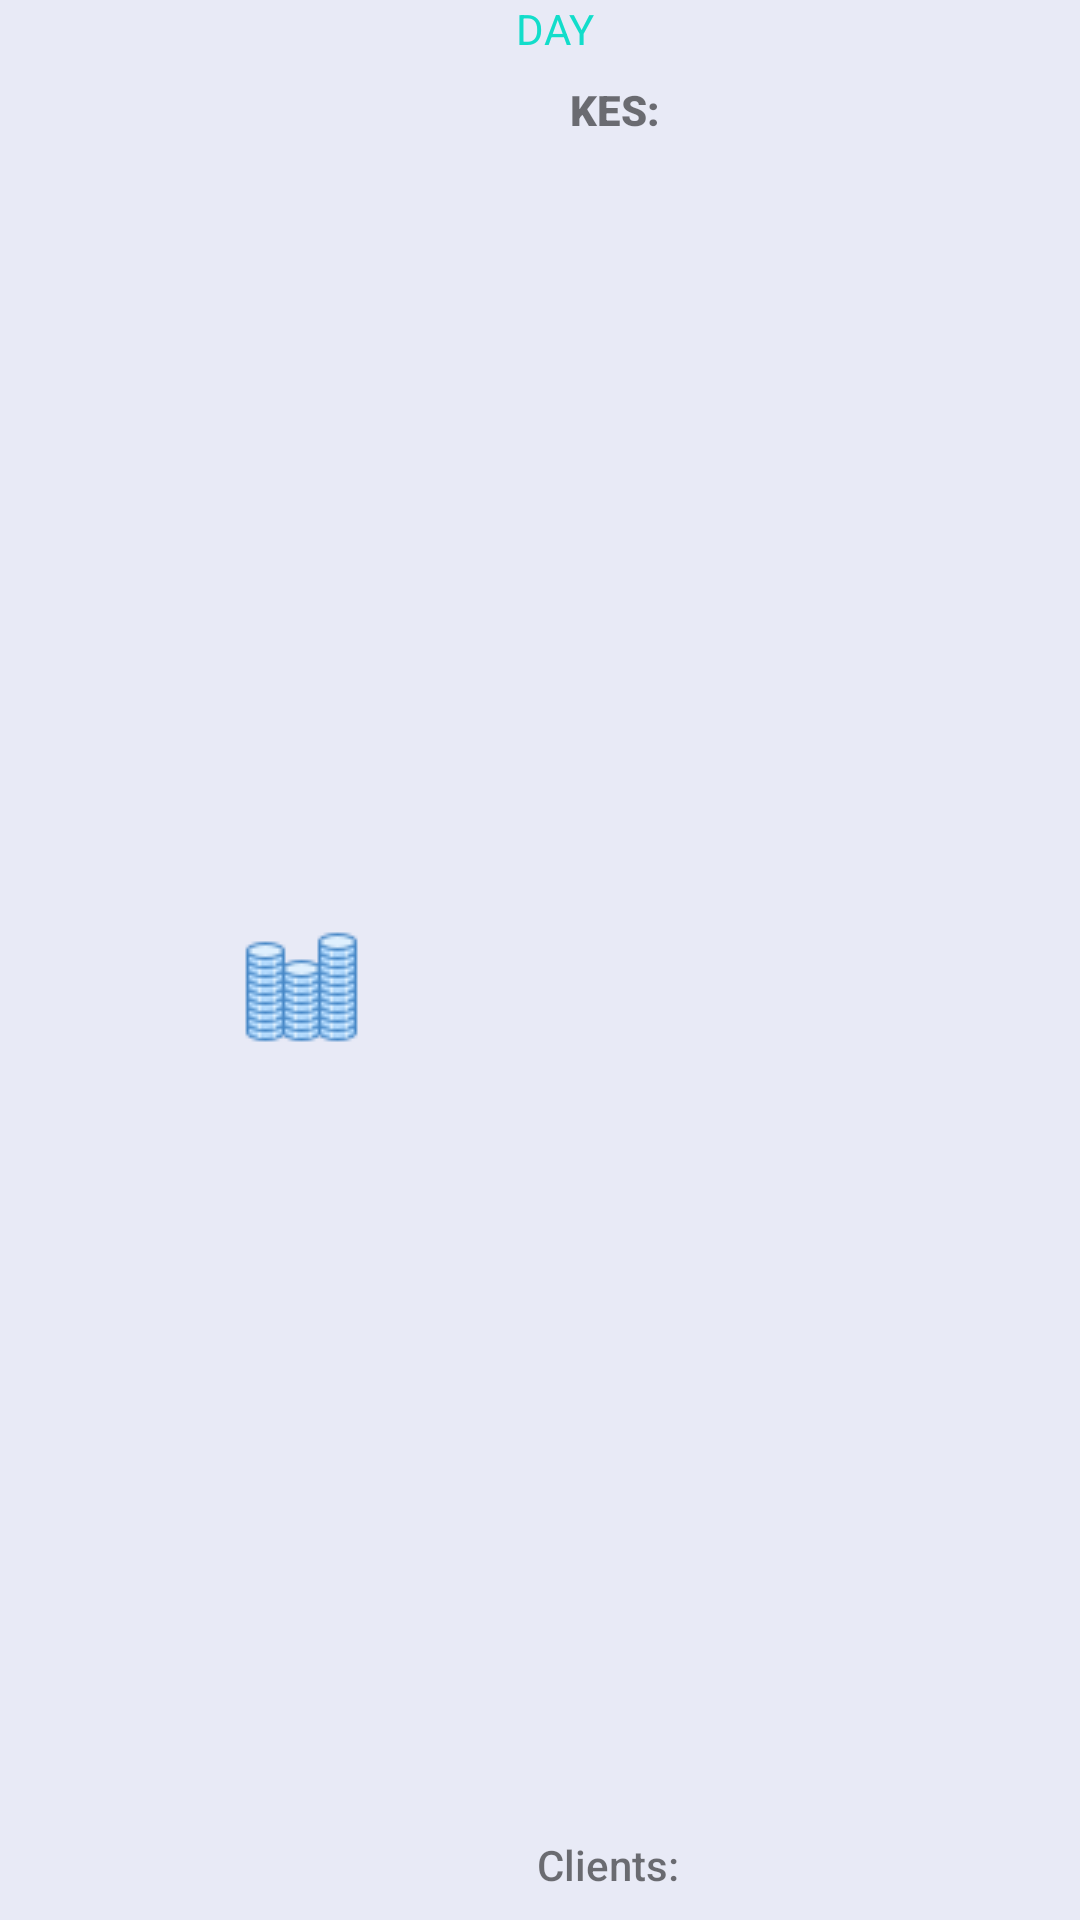

Where icons sit on this 1080w x 1920h app screen, as (x1, y1, x2, y2):
sales performance: (245, 932, 358, 1042)
